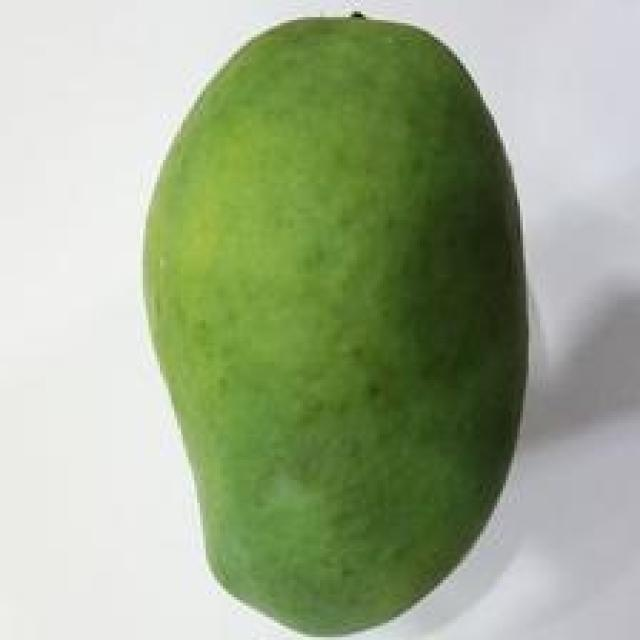Good_Mango: (140, 14, 531, 640)
